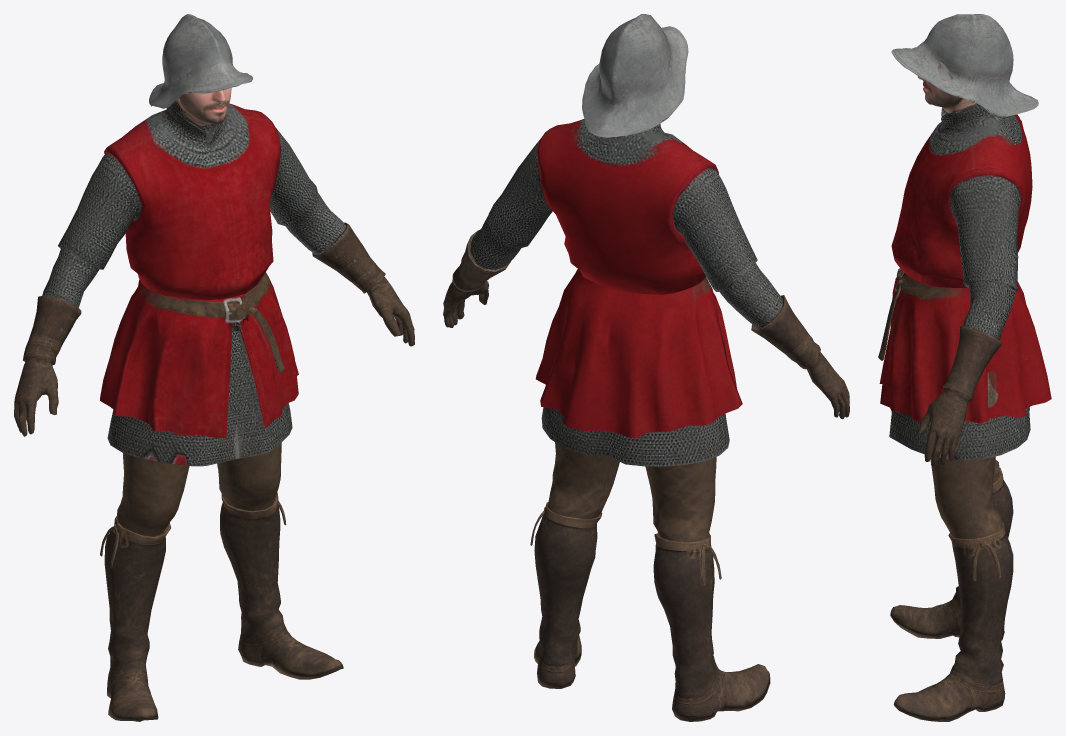
Rendered from Meshy_AI_model.glb.
The picture shows the model from 3 angles, left to right: view 1: azimuth 30°, elevation 25°; view 2: azimuth 150°, elevation 25°; view 3: azimuth 270°, elevation 25°; orthographic projection. The views are drawn at different scales.
Size of the model in its own units: 0.6226 by 1 by 0.2402.
1 material, 1 textured.
